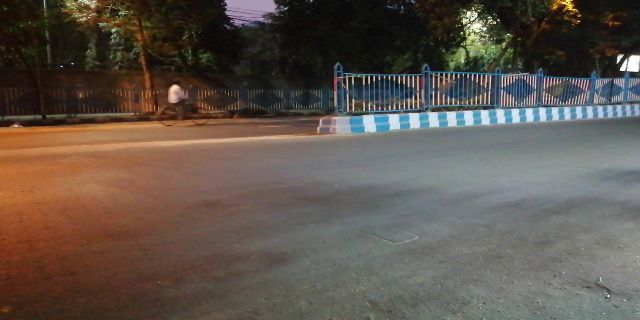Cycle: (150, 78, 214, 130)
